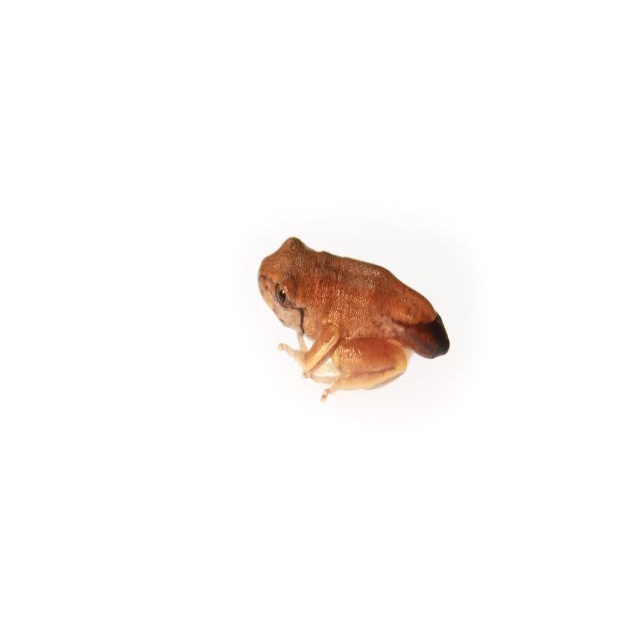Frog: (255, 231, 450, 407)
